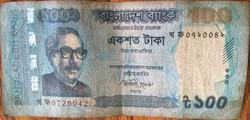100 taka: (4, 4, 239, 117)
